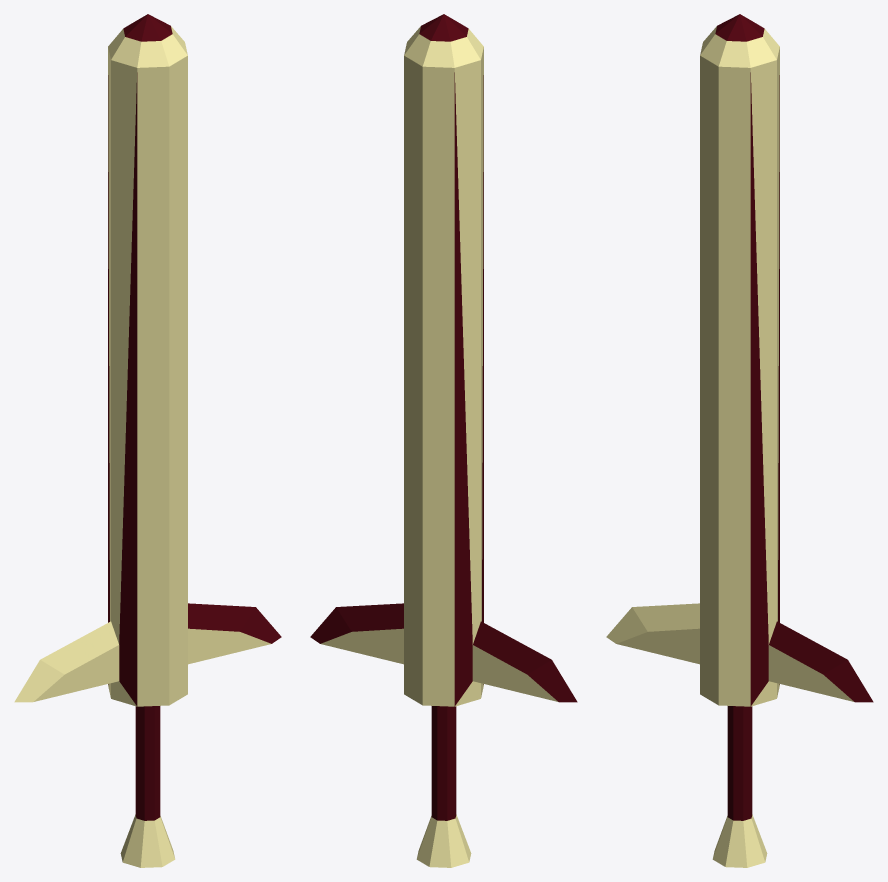
The model's file is Rocket.fbx.
3 views of the same model, side by side, from view 1: azimuth 30°, elevation 25°; view 2: azimuth 150°, elevation 25°; view 3: azimuth 330°, elevation 25° (orthographic).
Visible parts, largest first — view 1: Rocket; view 2: Rocket; view 3: Rocket.
Boxes of the visible parts, x1,y1,x2,y2 form: Rocket: (14,14,281,867); Rocket: (310,14,577,867); Rocket: (606,14,873,867).
Size of the model in its own units: 507 by 1526 by 140.
